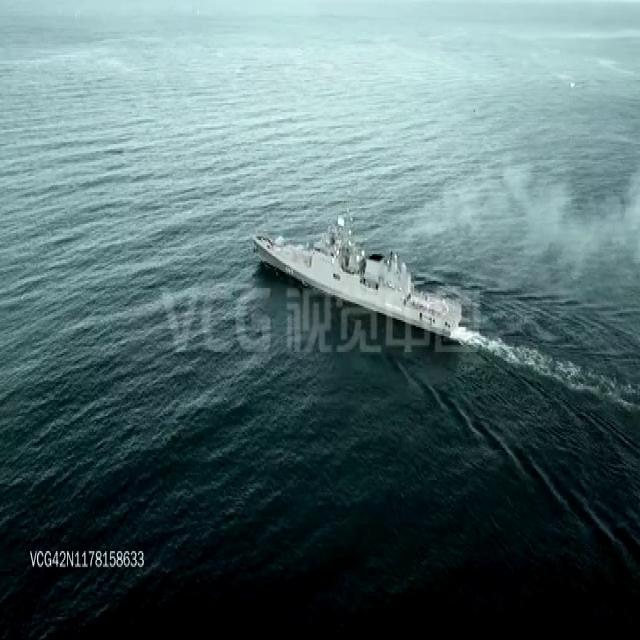navalvessels: (253, 211, 462, 340)
